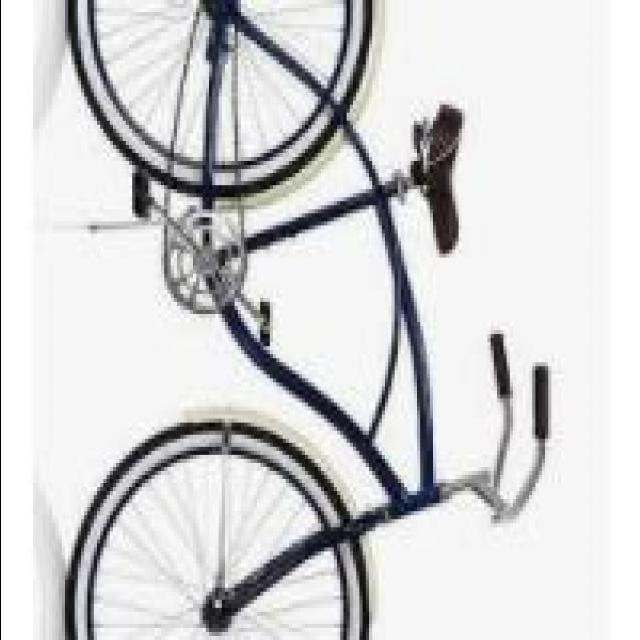bicycle: (46, 5, 497, 637)
